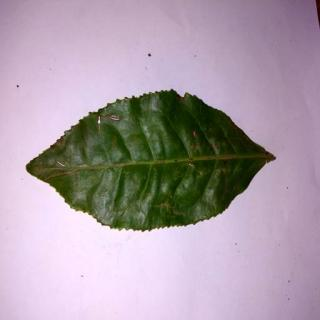Bird Eye Spot: (26, 91, 276, 232)
